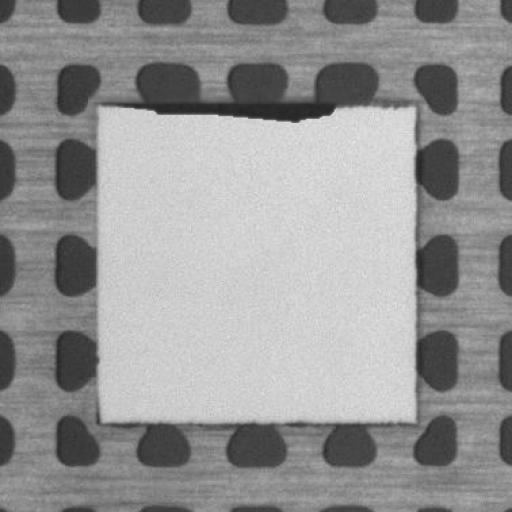DIE_BROKEN: (96, 96, 343, 121)
